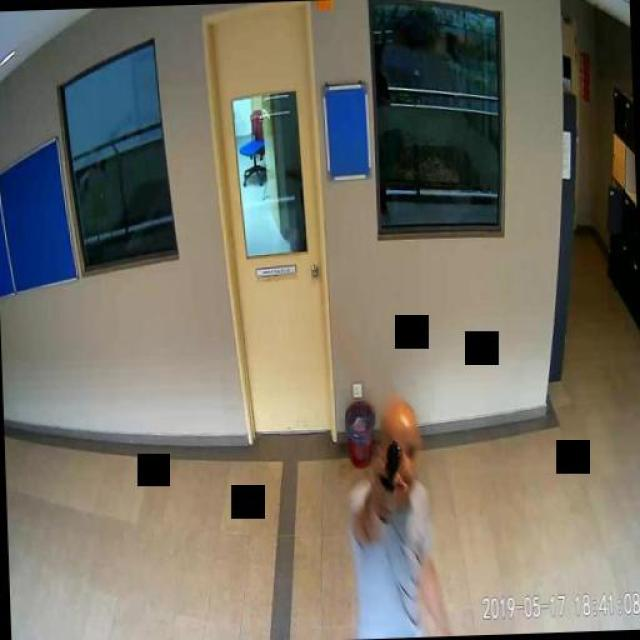gun: (374, 437, 401, 495)
